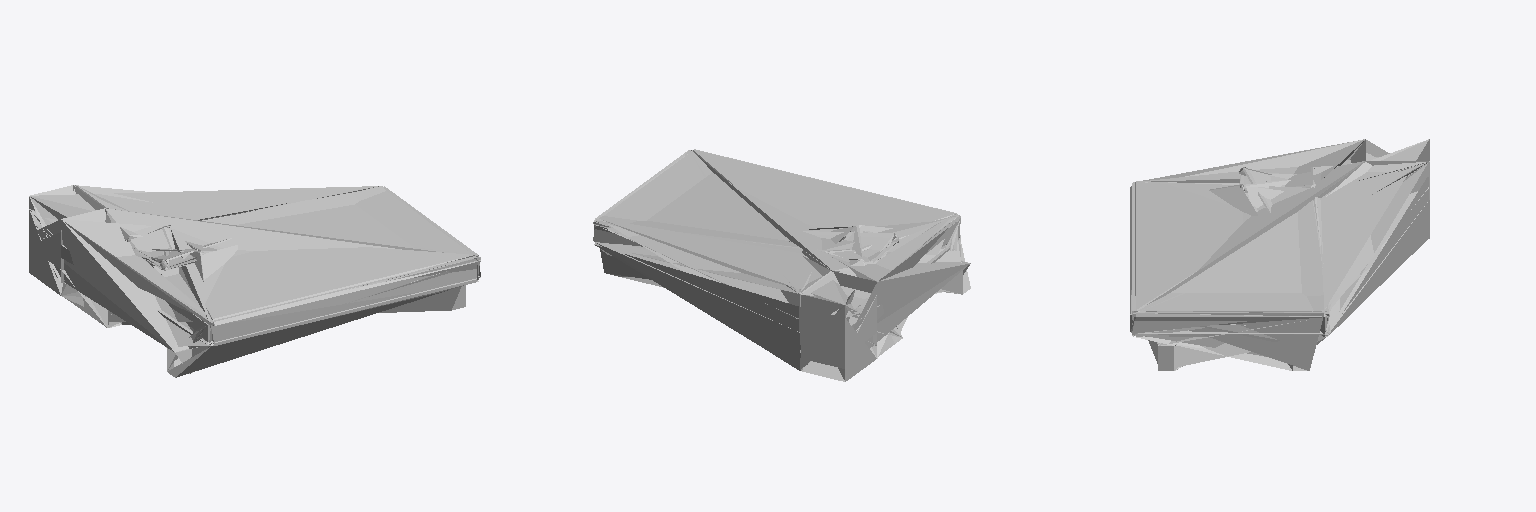
Rendered from Bedroom.obj.
3 views of the same model, side by side, from view 1: azimuth 30°, elevation 25°; view 2: azimuth 150°, elevation 25°; view 3: azimuth 270°, elevation 25° (orthographic).
Visible parts, largest first — view 1: Box039, Box041, Box045; view 2: Box039, Box041, Box029, Box045; view 3: Box039, Box041.
Boxes of the visible parts, x1,y1,x2,y2 form: Box039: [29, 185, 480, 377]; Box041: [29, 185, 480, 373]; Box045: [29, 185, 72, 283]; Box039: [594, 150, 970, 381]; Box041: [593, 149, 969, 381]; Box029: [781, 271, 874, 368]; Box045: [784, 256, 876, 367]; Box039: [1130, 139, 1429, 370]; Box041: [1130, 139, 1429, 370].
Bounding box in the file's own units: 110764 × 29647 × 94236.